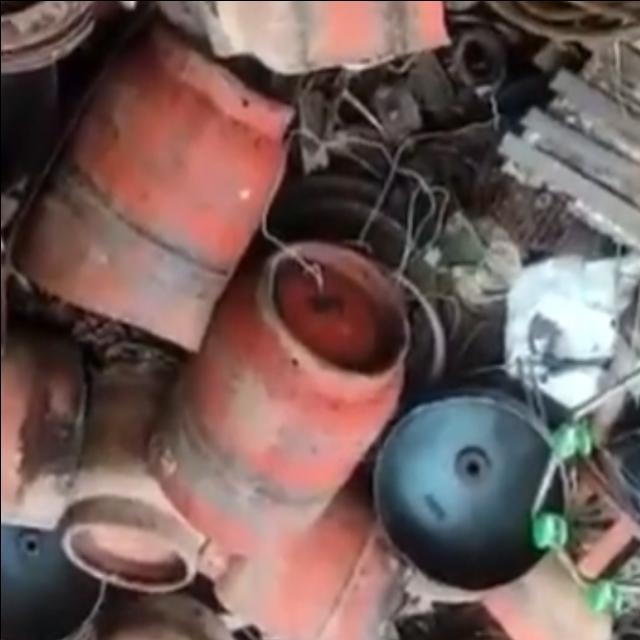cylinder: (7, 18, 296, 348), (148, 239, 412, 556)
